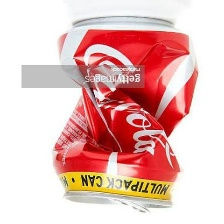can: (49, 12, 204, 216)
